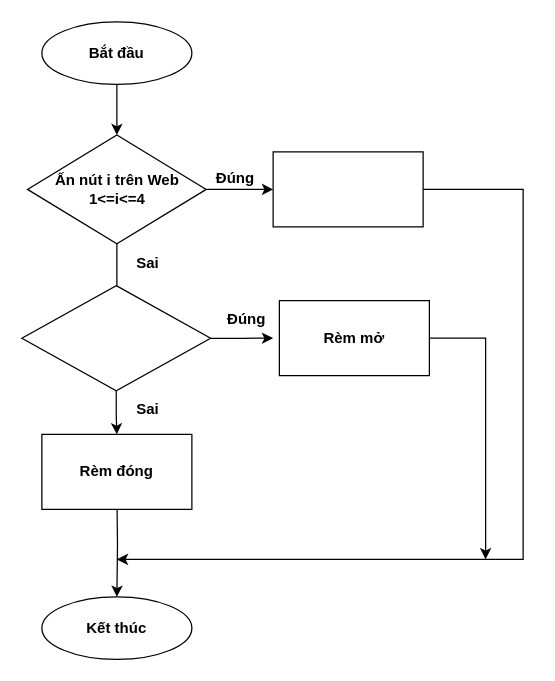
Some shapes in this 555 by 681 pixel diagram are drawn without their labels. The shapes that lost their labels are listed below. From the top down, each one's box as (x1, y1, x2, y2) in pixels, then its label:
(272, 151, 423, 227): Đèn i sáng
(21, 284, 211, 391): Ấn nút mở rèm
